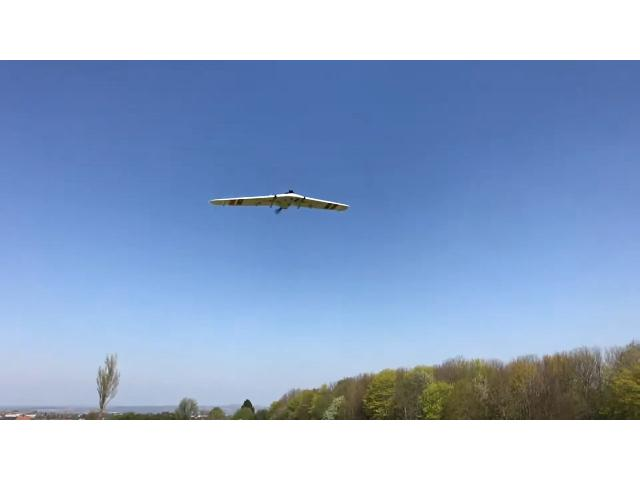Anti-Drone: (209, 188, 349, 215)
